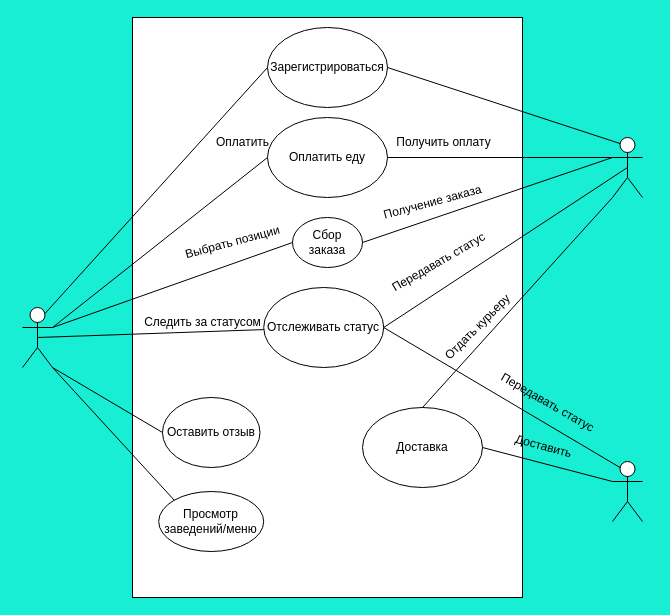
Image size: 670x615. Some labels were removed from this diagram. Here are the shapes that lost their labels. From the top down, the centre of each, then its label:
pixel 627 167: Ресторан
pixel 37 337: Клиент
pixel 627 491: Курьер
